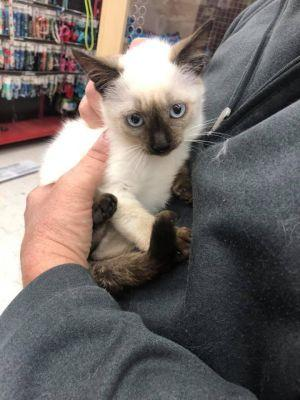siamese: (64, 12, 224, 168)
